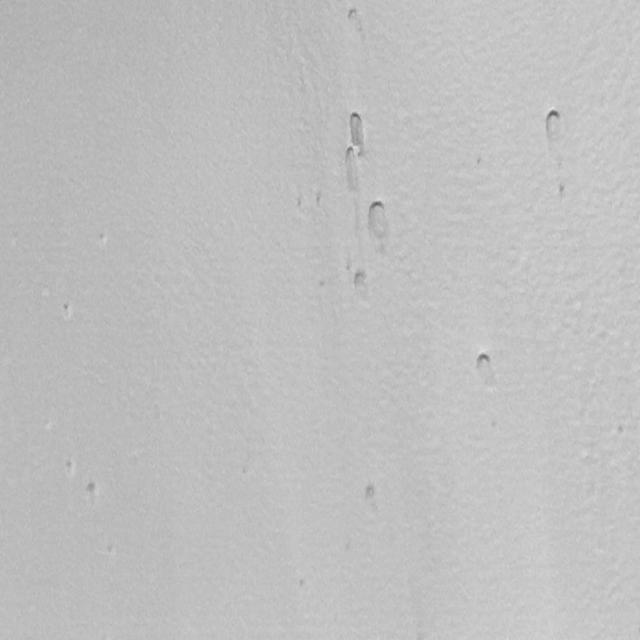pin holes: (340, 148, 364, 236), (342, 107, 372, 163), (365, 202, 393, 248), (543, 109, 568, 145), (472, 352, 498, 384), (351, 268, 372, 296), (361, 481, 381, 507), (84, 481, 102, 507), (345, 3, 365, 25), (612, 421, 630, 443), (296, 573, 312, 595), (63, 459, 76, 477), (556, 184, 568, 202), (97, 230, 109, 248), (104, 541, 116, 558), (61, 302, 72, 318)
